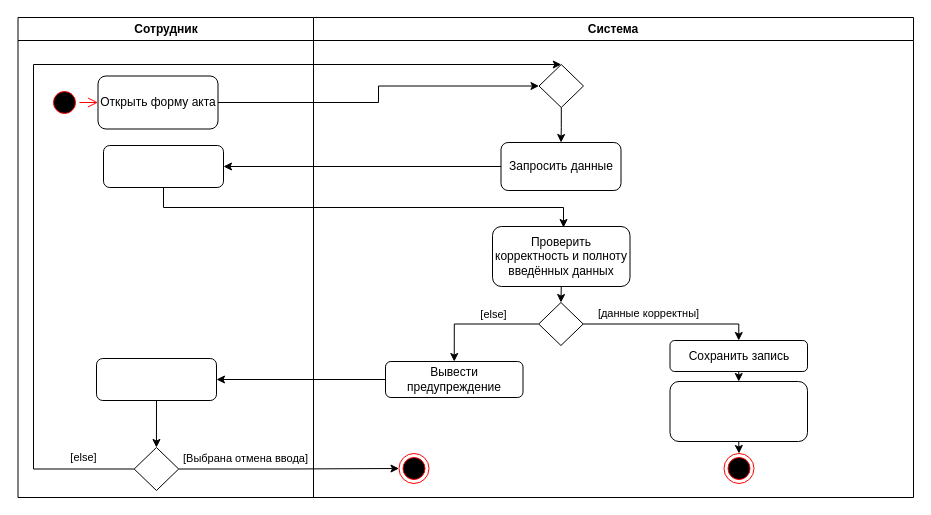
Image size: 931x515. Some labels were removed from this diagram. The shapes that lost their labels are listed below. From the top down, each one's centre as x and y in pixels, then its label:
(x=163, y=166): Ввести данные
(x=156, y=379): Выбор действия
(x=738, y=411): Напечатать акт о выполнении операций
